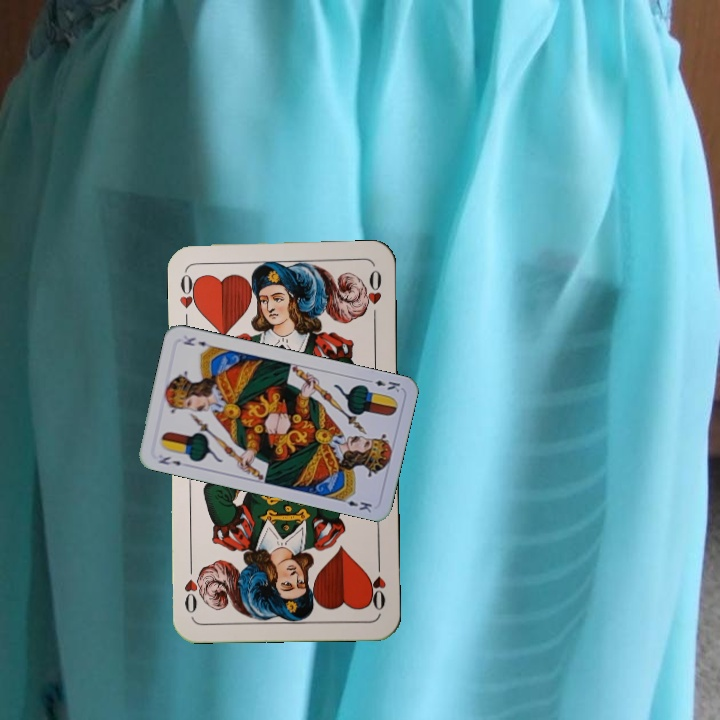EK: (362, 375, 403, 395), (154, 452, 183, 468)
HO: (175, 268, 202, 327), (364, 555, 389, 613)
